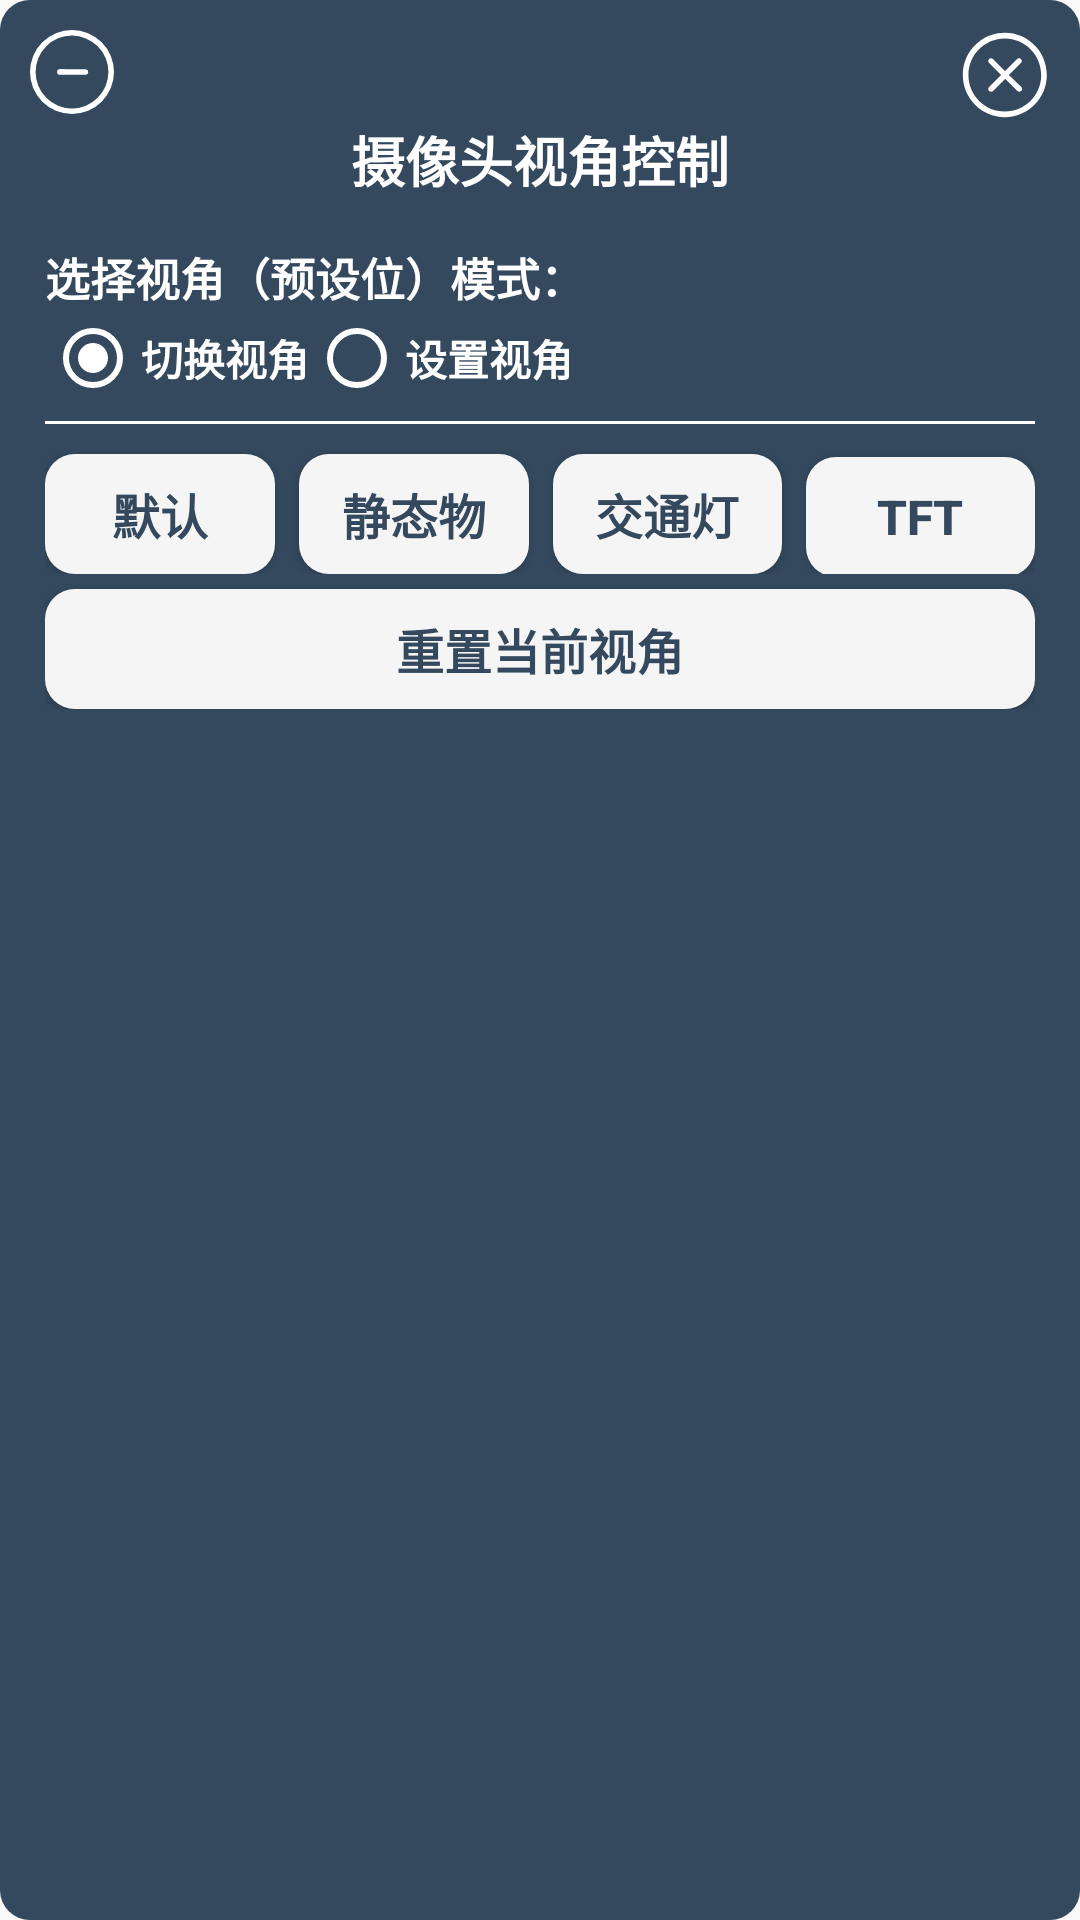

Screen size 1080 x 1920. Icon name, then its box in pixels as (x1, y1, x2, y2):
minimize: (30, 30, 114, 114)
关闭悬浮窗: (962, 32, 1047, 118)
